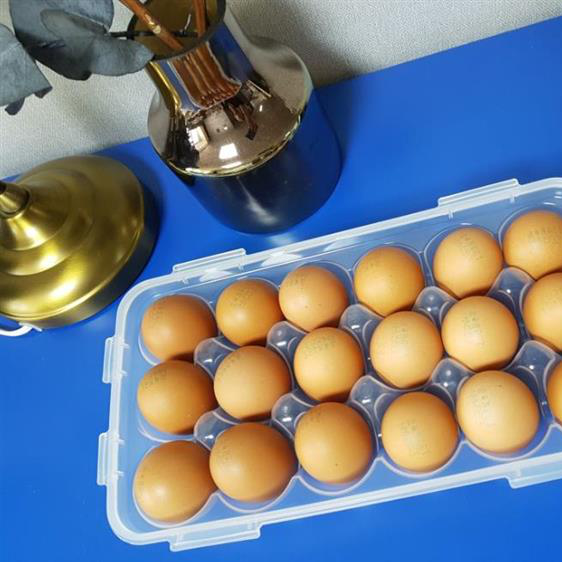egg: (134, 207, 562, 525)
